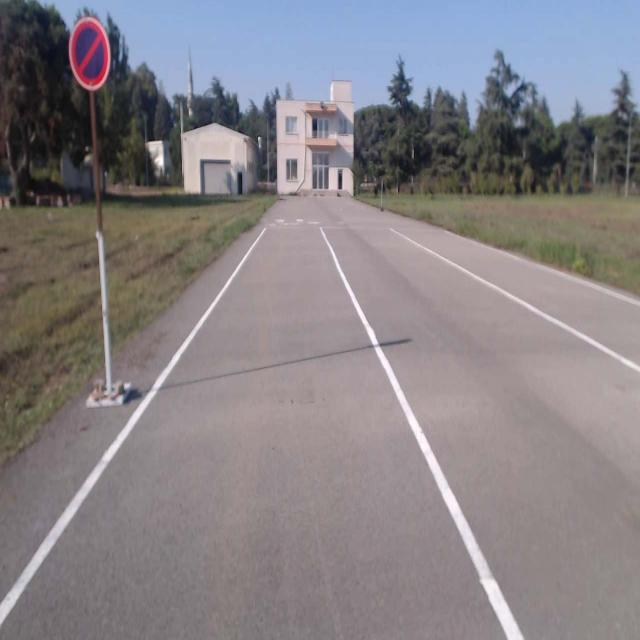parkyasak: (68, 18, 110, 88)
